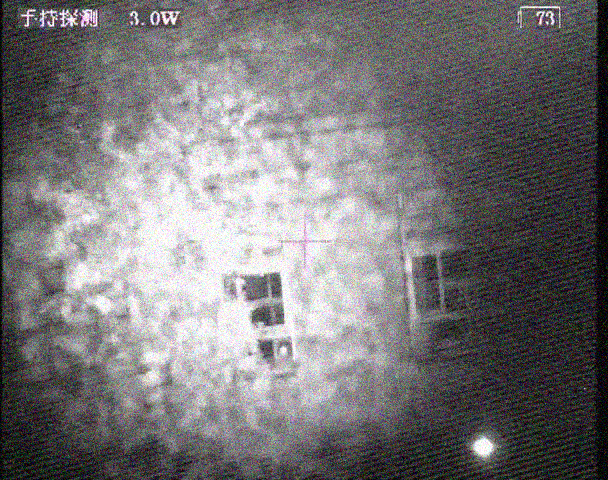my: (278, 345, 289, 357)
